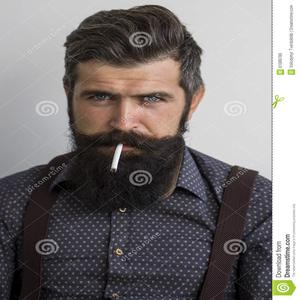cigarette: (110, 143, 124, 173)
